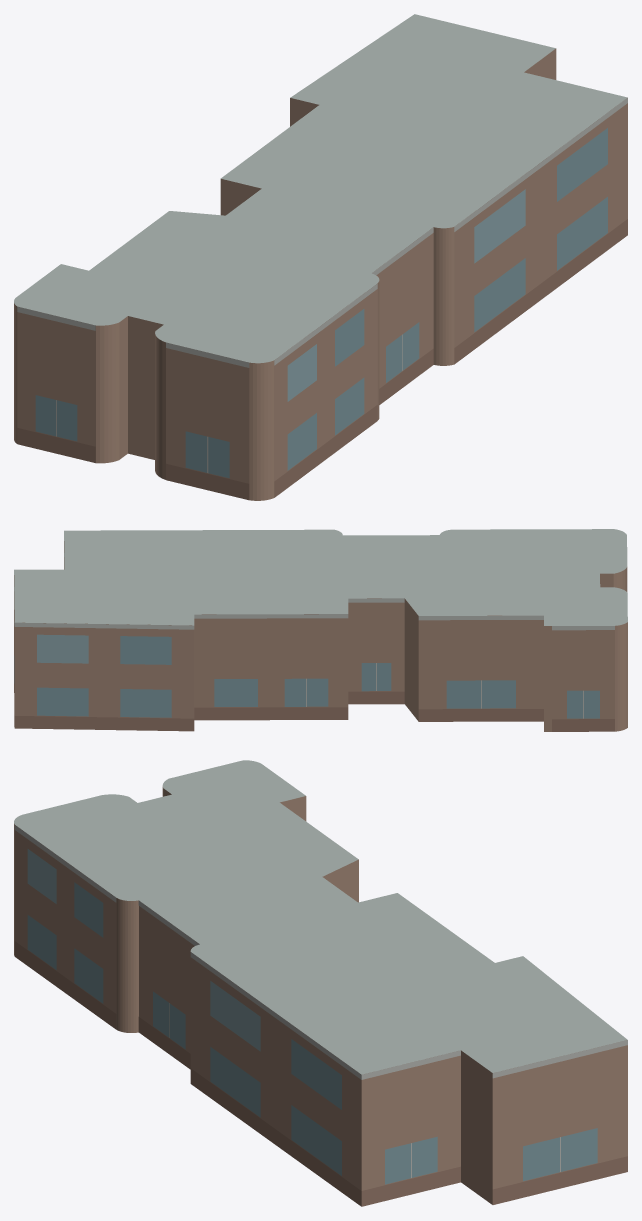
File: survey-upis-32905132.glb
3 renders of one model, top to bottom at view 1: azimuth 30°, elevation 25°; view 2: azimuth 150°, elevation 25°; view 3: azimuth 270°, elevation 25°, orthographic. The views are drawn at different scales.
Parts seen in each view (by area): view 1: survey-upis-32905132.tmp; view 2: survey-upis-32905132.tmp; view 3: survey-upis-32905132.tmp.
Boxes of the visible parts, box(x1,y1,x2,y2) form: survey-upis-32905132.tmp: box(14, 14, 627, 500); survey-upis-32905132.tmp: box(14, 529, 627, 731); survey-upis-32905132.tmp: box(14, 760, 627, 1206).
Size of the model in its own units: 31.17 by 6.1 by 25.7.
